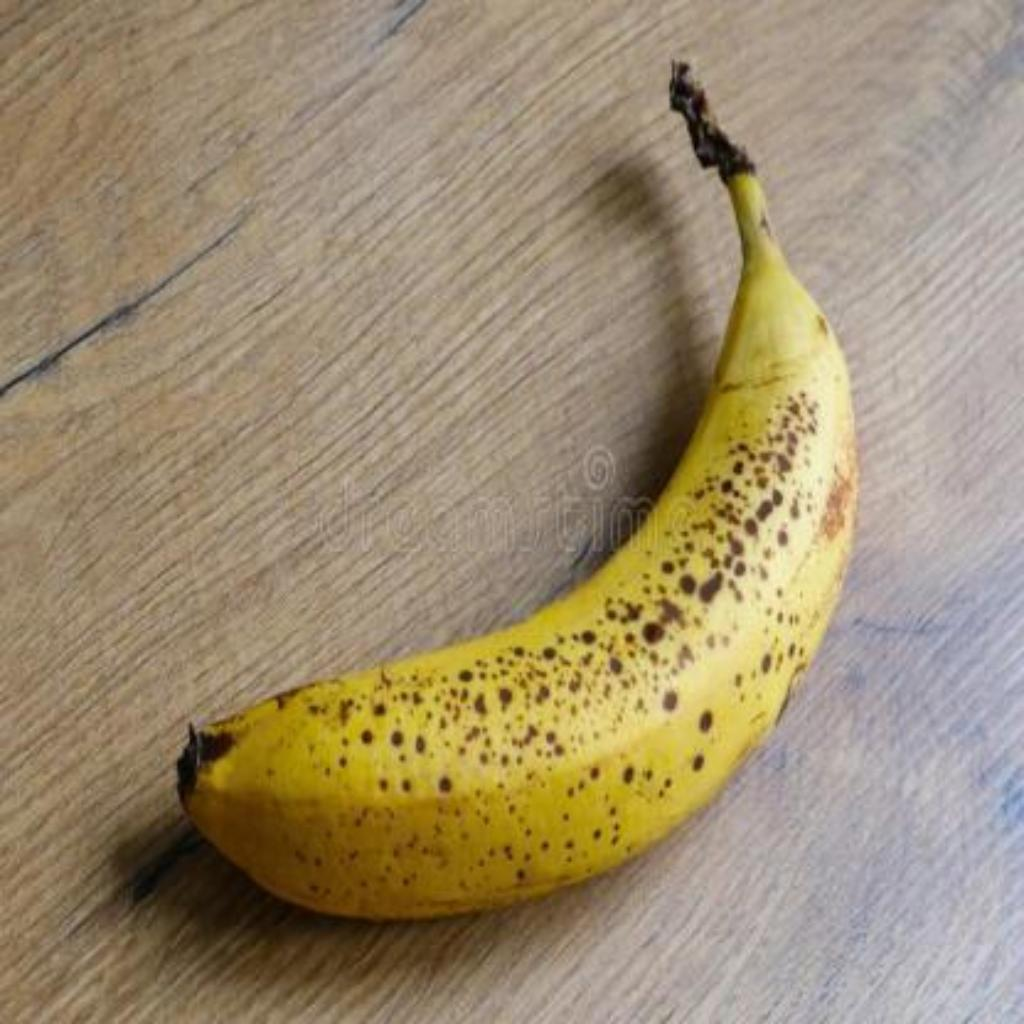banana: (172, 62, 857, 926)
